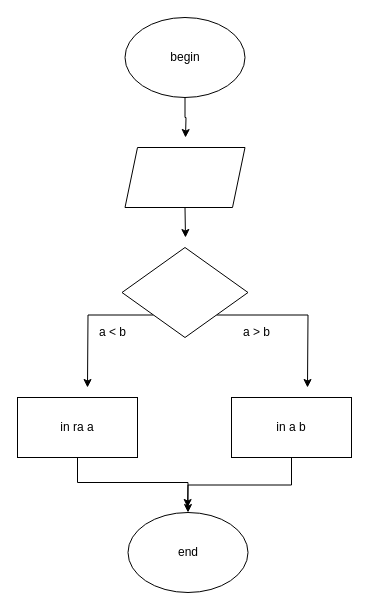
The diagram is 369 pixels wide and 610 high, and some of its shapes have lost their labels. Each missing label, with the centre of its shape:
"nhập a và b" belongs at pixel 184 177.
"so sánh a và b?" belongs at pixel 184 292.
